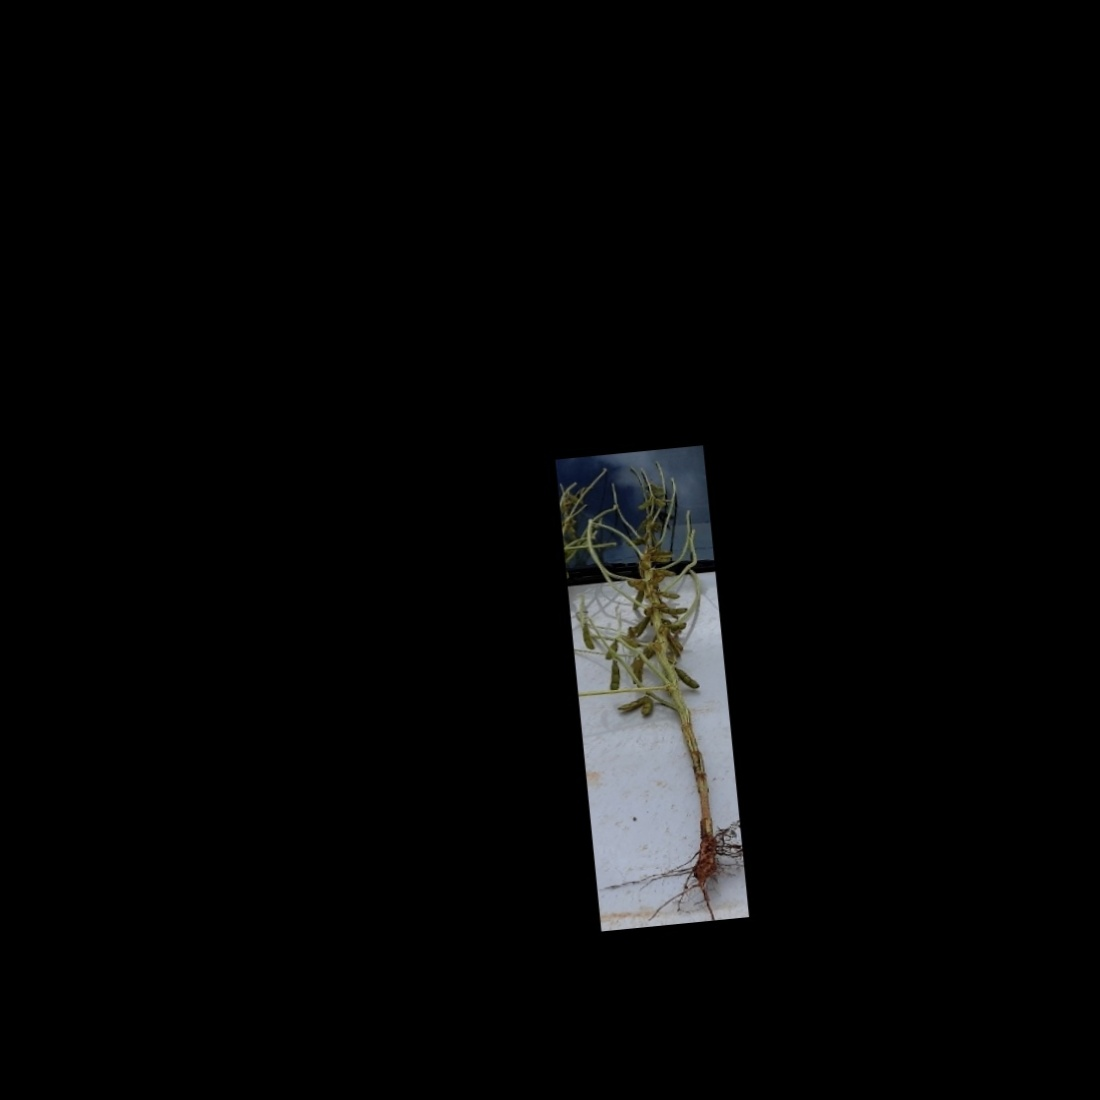pod: (673, 665, 701, 693), (603, 659, 625, 692), (577, 624, 596, 654), (658, 603, 691, 617), (639, 694, 655, 718)
soy: (563, 462, 741, 914)
